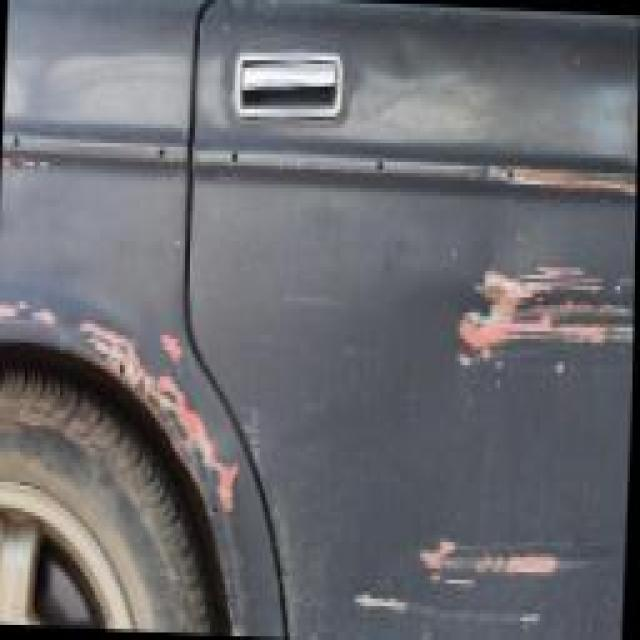Door: (255, 120, 638, 640)
Fender: (2, 256, 257, 535)
